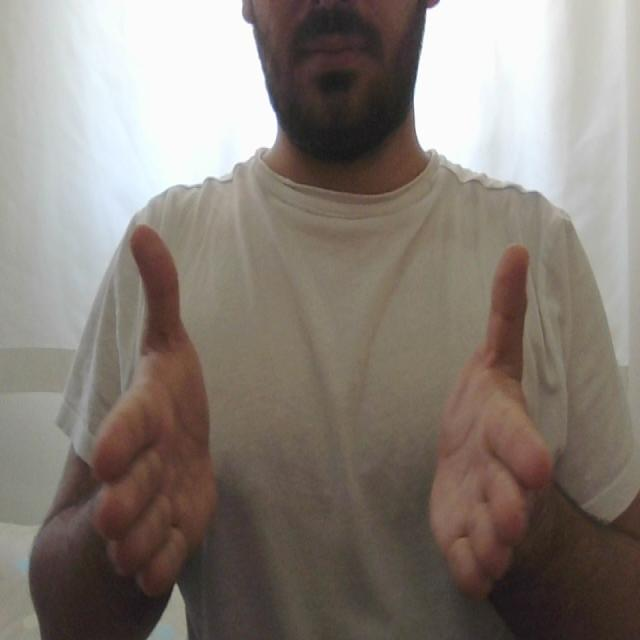Nasil: (83, 199, 578, 607)
